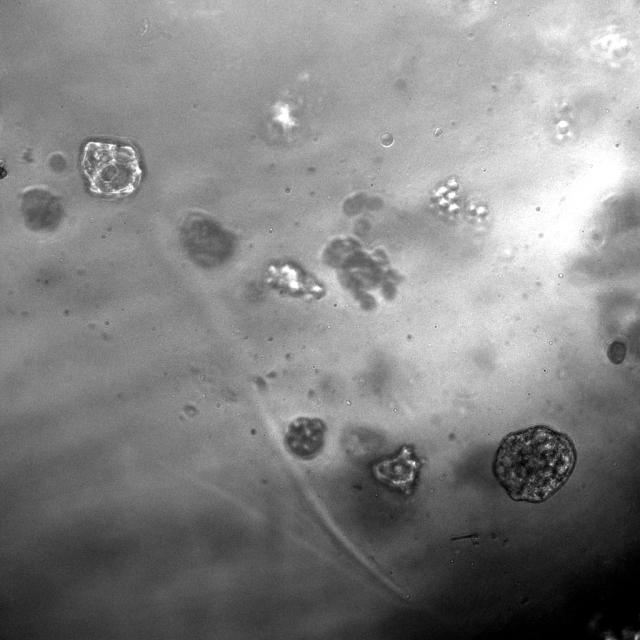organoid: (321, 191, 402, 310), (493, 425, 576, 502), (79, 138, 143, 199), (178, 209, 238, 270), (429, 177, 488, 223), (371, 445, 421, 495), (266, 261, 326, 299), (21, 187, 64, 231), (286, 416, 326, 459), (607, 341, 626, 364), (48, 152, 67, 172), (380, 132, 394, 147)
